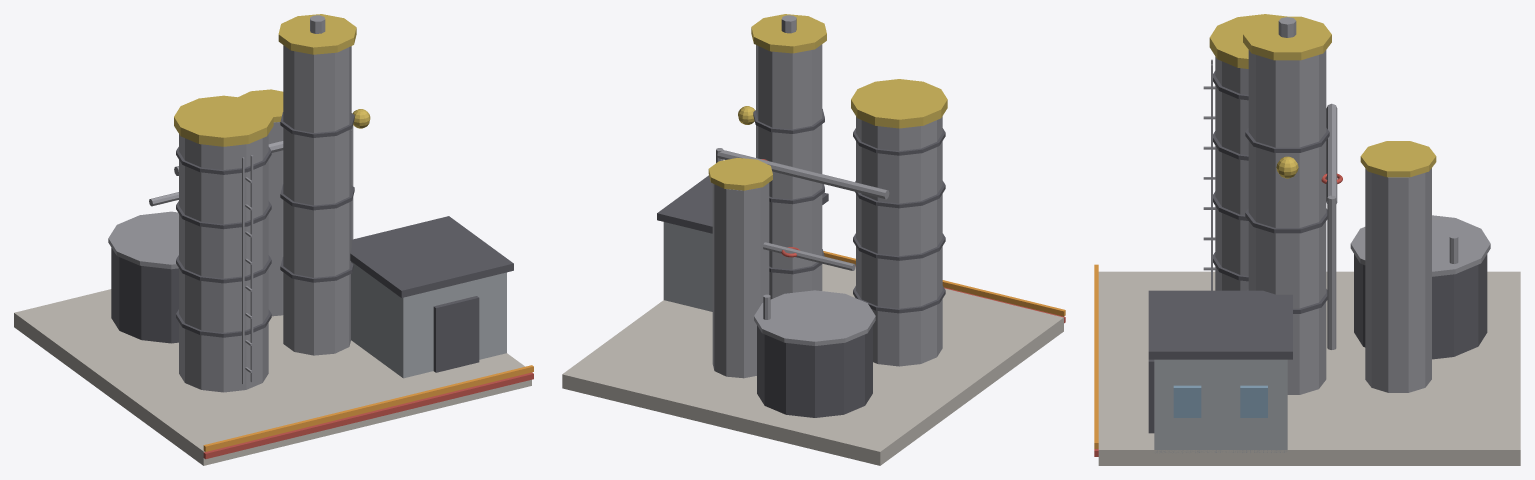
File: refinery.glb
3 renders of one model, left to right at view 1: azimuth 30°, elevation 25°; view 2: azimuth 150°, elevation 25°; view 3: azimuth 270°, elevation 25°, orthographic. The views are drawn at different scales.
Visible parts, largest first — view 1: Refinery; view 2: Refinery; view 3: Refinery.
Part boxes in pixels (bbox=[...]): Refinery: bbox=[14, 14, 533, 465]; Refinery: bbox=[562, 14, 1065, 465]; Refinery: bbox=[1094, 14, 1520, 465].
Size of the model in its own units: 3.85 by 3.73 by 3.84.
